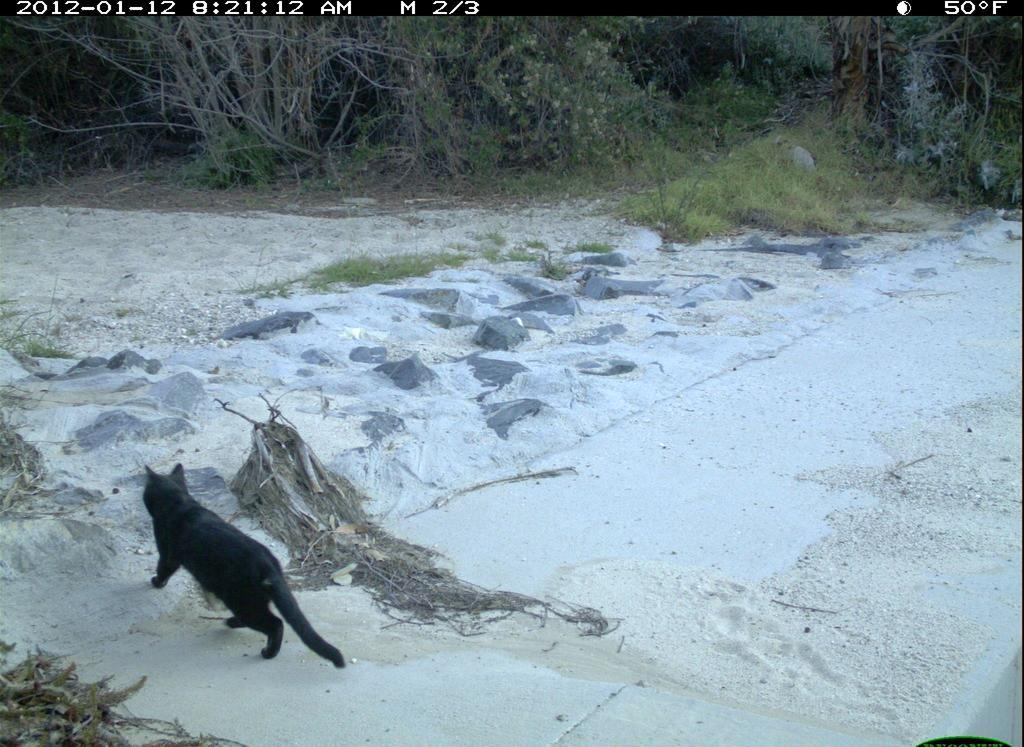cat: (122, 451, 363, 681)
